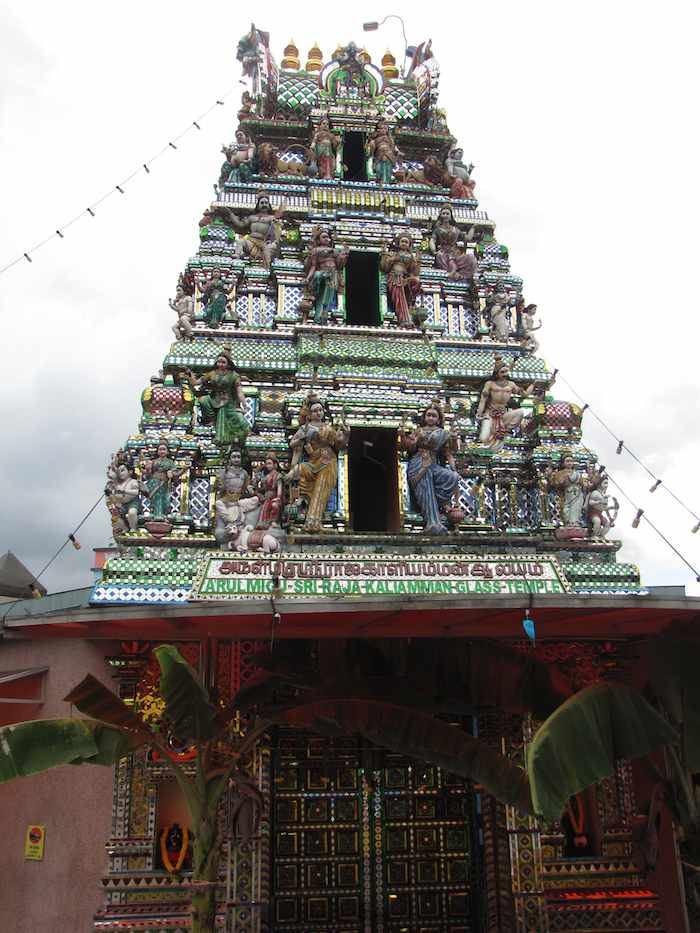Hindu Temple: (149, 16, 637, 597)
